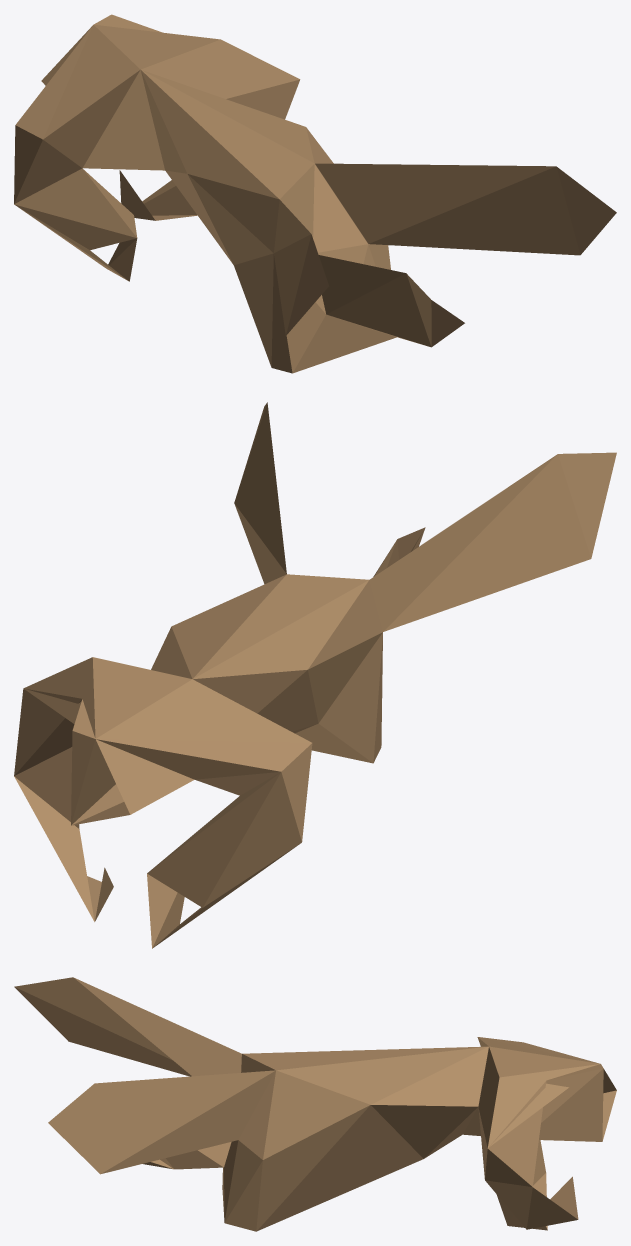
The model's file is tree-fragment.glb.
3 views of the same model, one above another, from view 1: azimuth 30°, elevation 25°; view 2: azimuth 150°, elevation 25°; view 3: azimuth 270°, elevation 25° (orthographic). The views are drawn at different scales.
Parts seen in each view (by area): view 1: z01.stl; view 2: z01.stl; view 3: z01.stl.
Part boxes in pixels (<box>): z01.stl: <box>14,14,616,373</box>; z01.stl: <box>14,402,616,948</box>; z01.stl: <box>14,977,616,1231</box>.
Bounding box in the file's own units: 6016 × 4856 × 12123.
